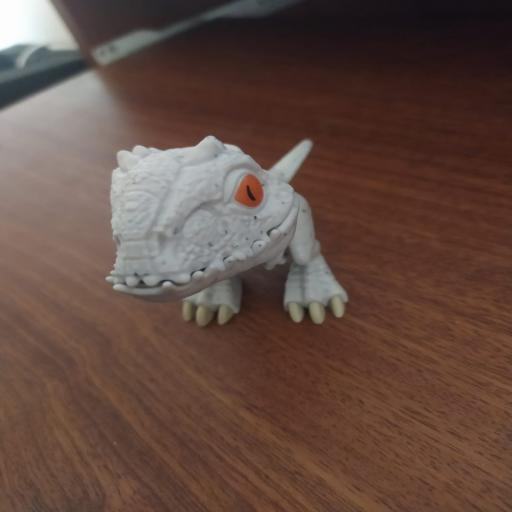Dinosaurio: (93, 126, 363, 341)
